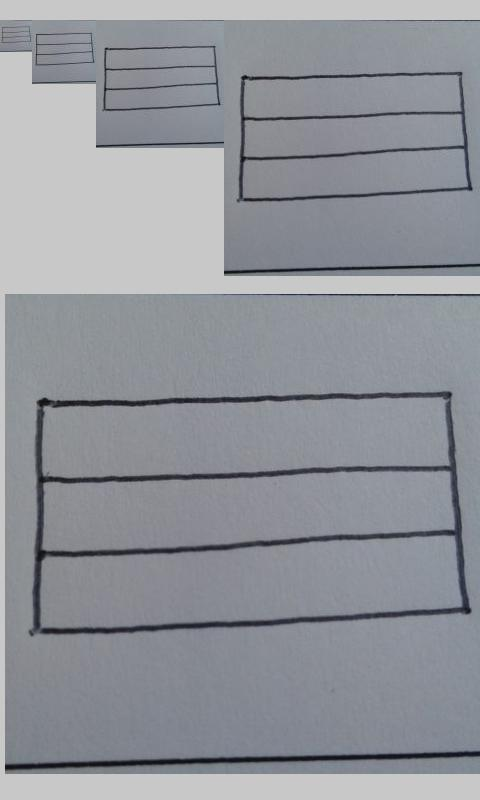list_view: (29, 391, 469, 635), (236, 68, 470, 202), (103, 45, 221, 111), (35, 32, 95, 66), (1, 25, 32, 44)
